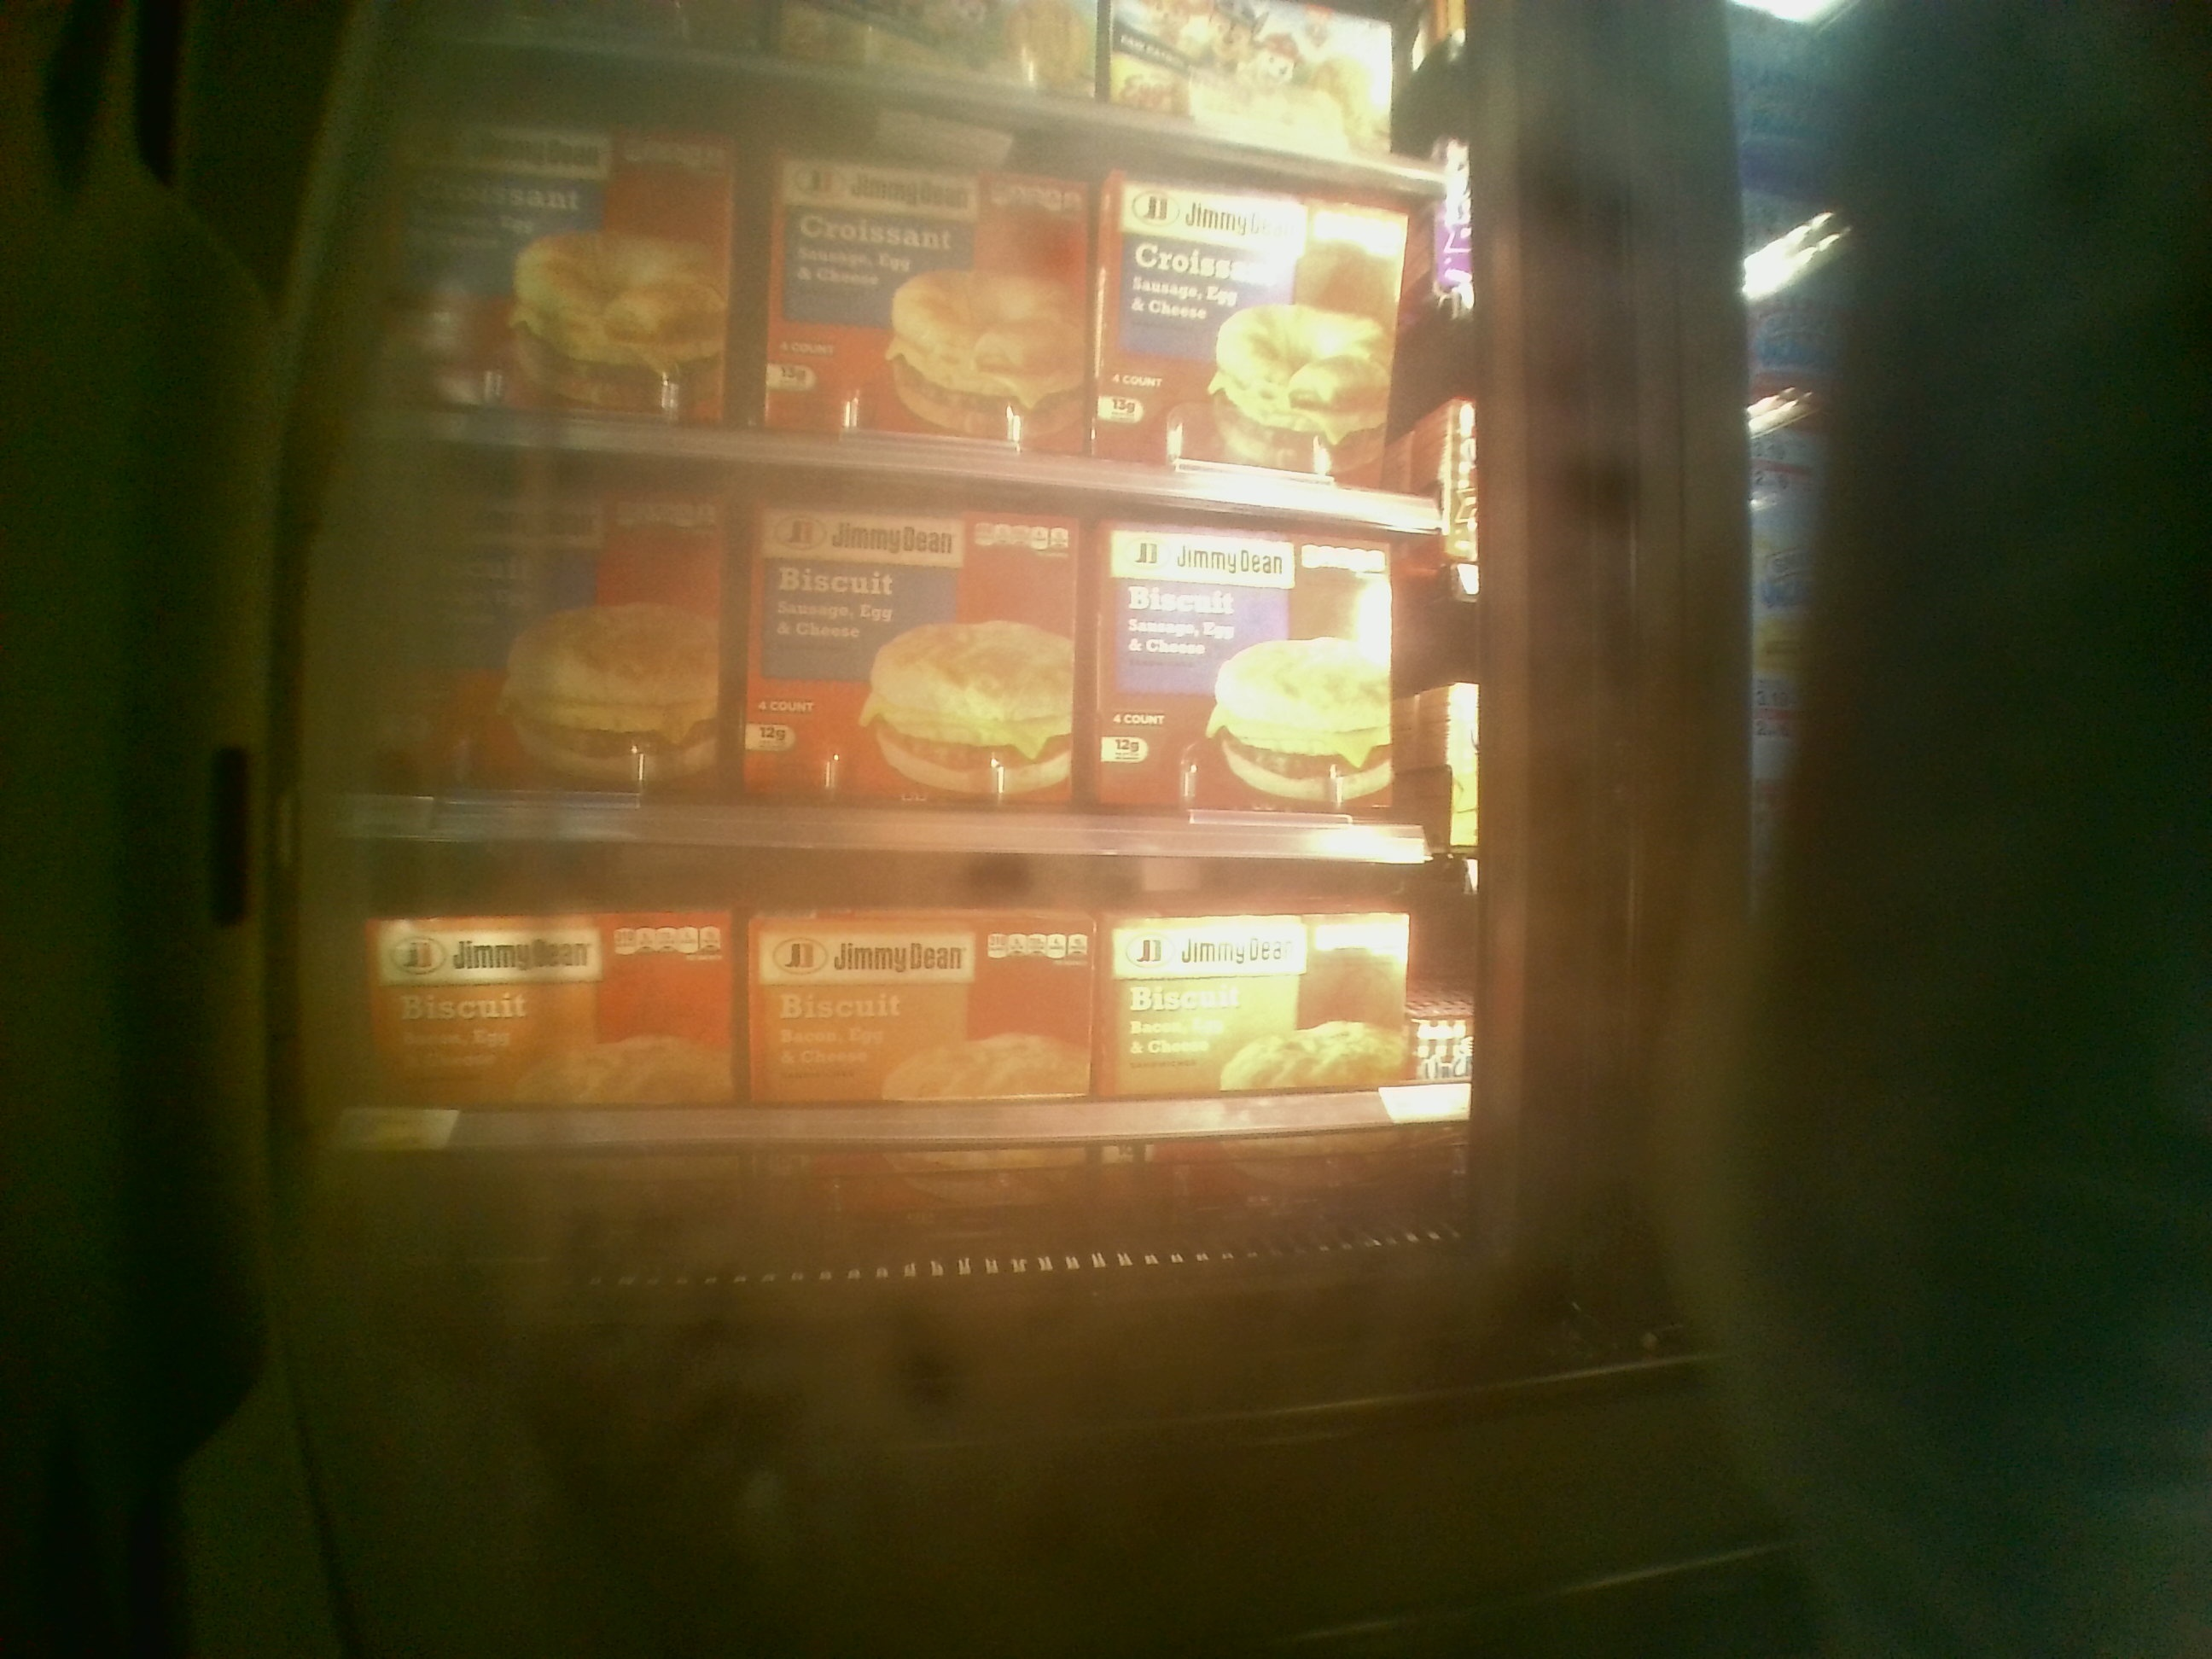shelf: (336, 432, 1453, 857), (331, 852, 1489, 1260)
